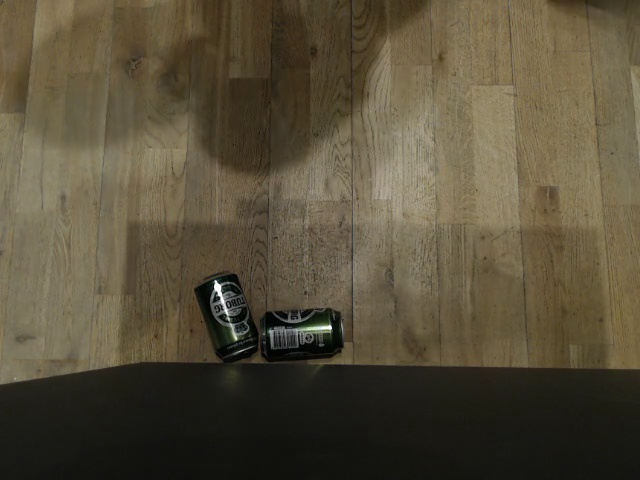beer: (193, 269, 258, 363), (259, 306, 344, 362)
